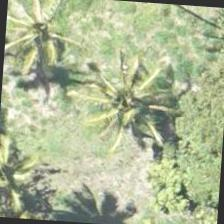Kelapa_Sawit: (78, 40, 174, 136), (2, 0, 95, 81), (0, 118, 50, 212)
